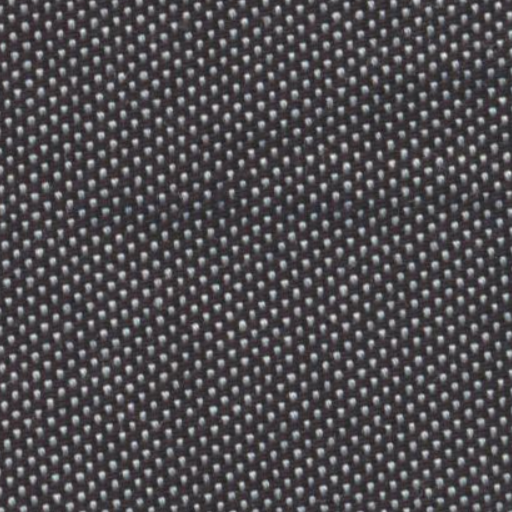TuoSha: (16, 179, 496, 254)
